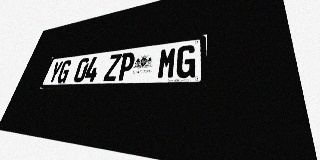0: (72, 57, 90, 82)
4: (83, 56, 102, 82)
G: (175, 44, 197, 78), (56, 60, 73, 83)
M: (156, 47, 177, 79)
P: (116, 52, 136, 81)
Y: (47, 61, 64, 84)
Z: (103, 54, 122, 81)
